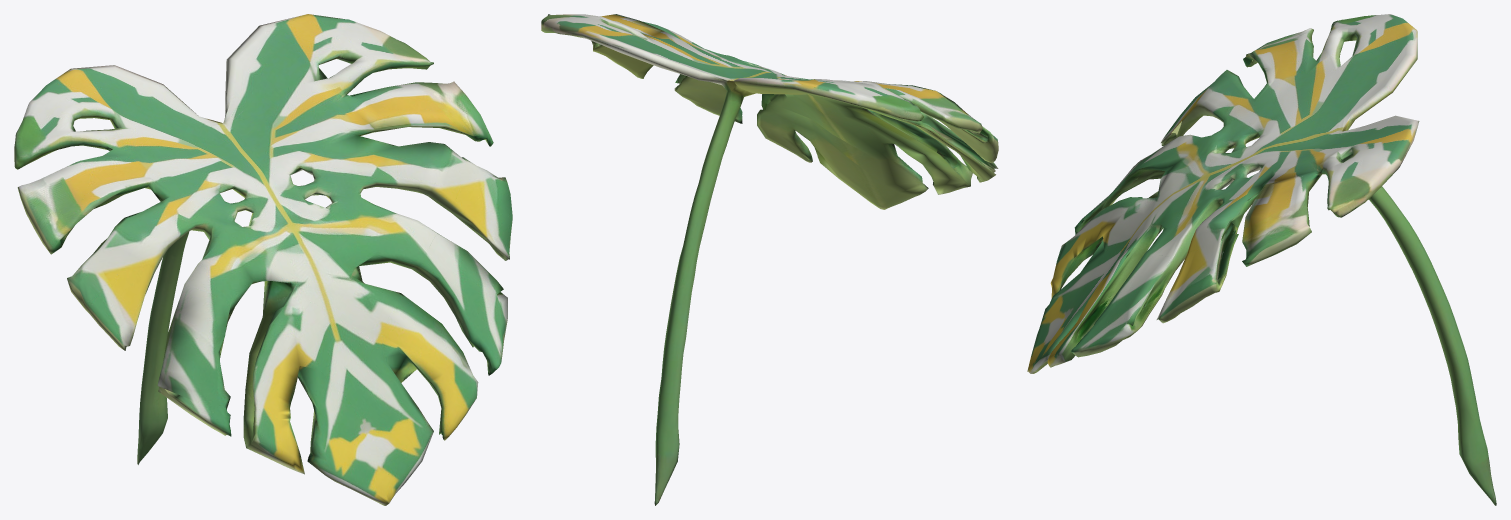
Rendered from mon_star_greenyellow.glb.
3 renders of one model, left to right at view 1: azimuth 30°, elevation 25°; view 2: azimuth 150°, elevation 25°; view 3: azimuth 270°, elevation 25°, orthographic. The views are drawn at different scales.
Size of the model in its own units: 2 by 1.95 by 1.94.
1 material, 1 textured.
